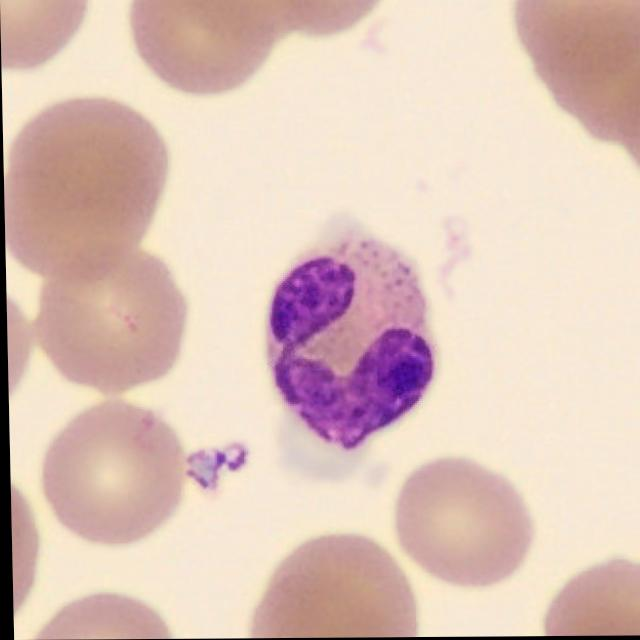Neutrofilo segmentado: (264, 213, 434, 453)
